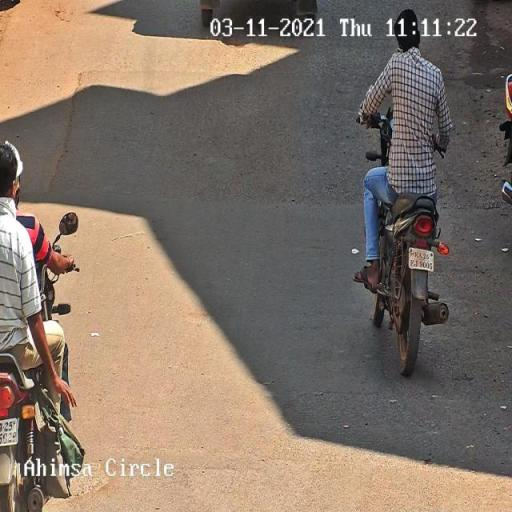using mobile: (394, 40, 406, 58)
